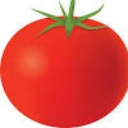tomato: (1, 15, 128, 127)
